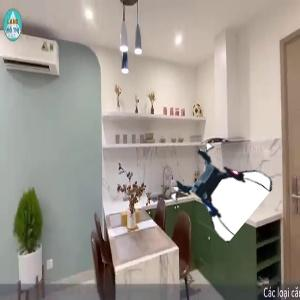drone: (175, 146, 262, 233)
